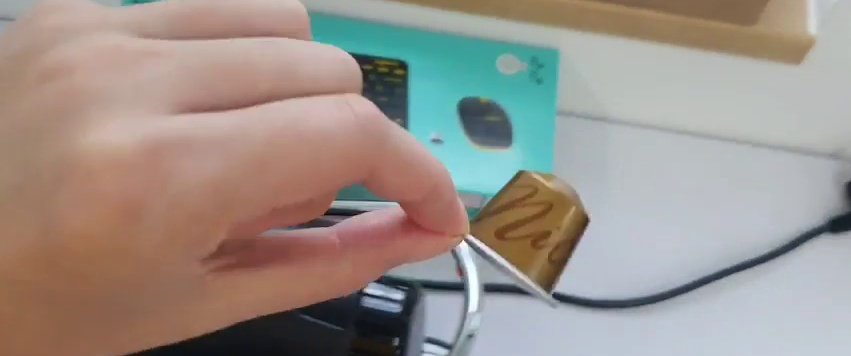capsule_9: (462, 166, 591, 314)
